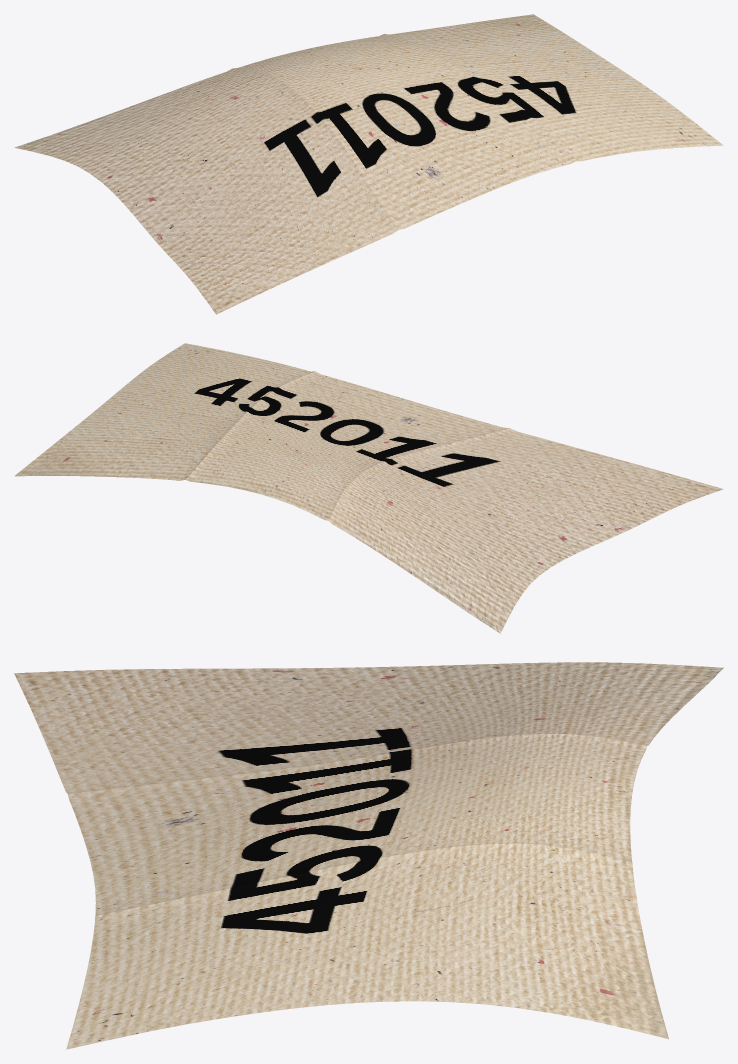
File: pageFour.glb
The picture shows the model from 3 angles, top to bottom: view 1: azimuth 30°, elevation 25°; view 2: azimuth 150°, elevation 25°; view 3: azimuth 270°, elevation 25°; orthographic projection. The views are drawn at different scales.
Visible parts, largest first — view 1: Object_2; view 2: Object_2; view 3: Object_2.
Boxes of the visible parts, <box> form: Object_2: <box>14,14,723,314</box>; Object_2: <box>14,343,723,633</box>; Object_2: <box>14,662,723,1049</box>.
Size of the model in its own units: 24.75 by 3.3 by 17.43.
1 material, 1 textured.
